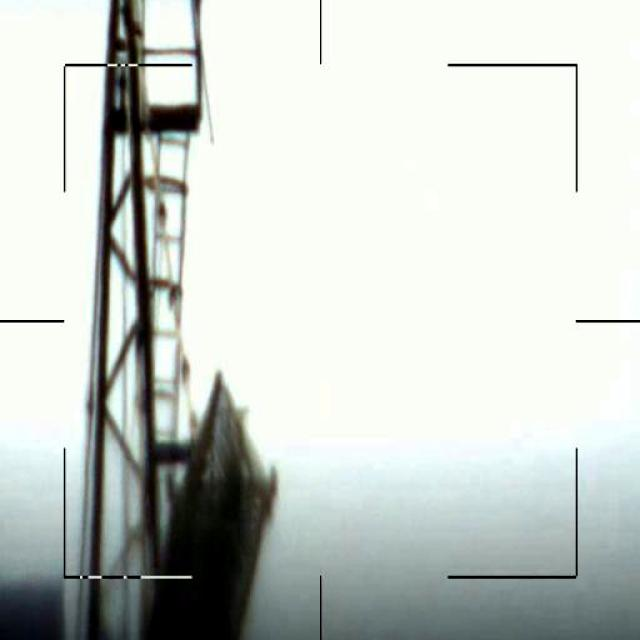bird: (151, 435, 201, 468)
